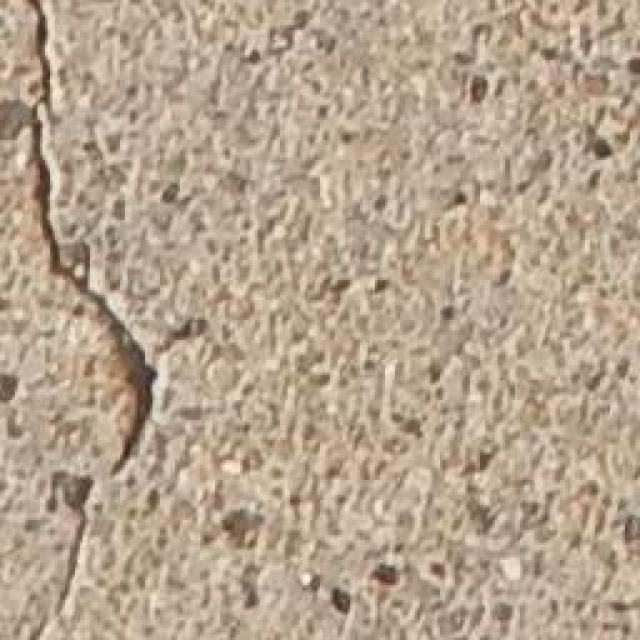concrete-crack: (22, 2, 165, 482), (23, 471, 94, 638)
